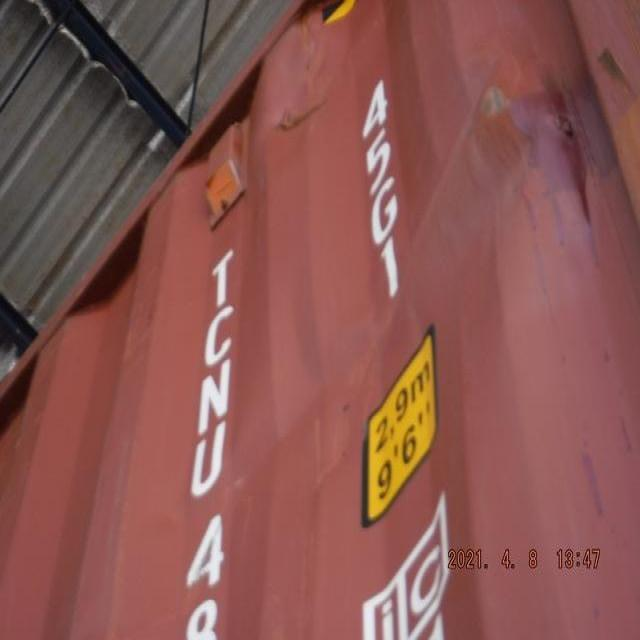Dent: (371, 50, 592, 338)
